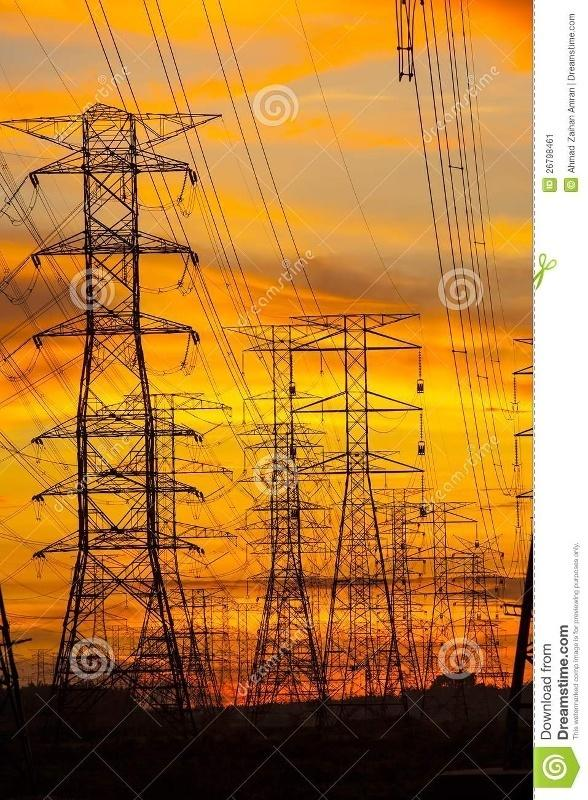power_tower: (2, 95, 217, 723), (294, 302, 425, 701), (227, 313, 338, 705)
